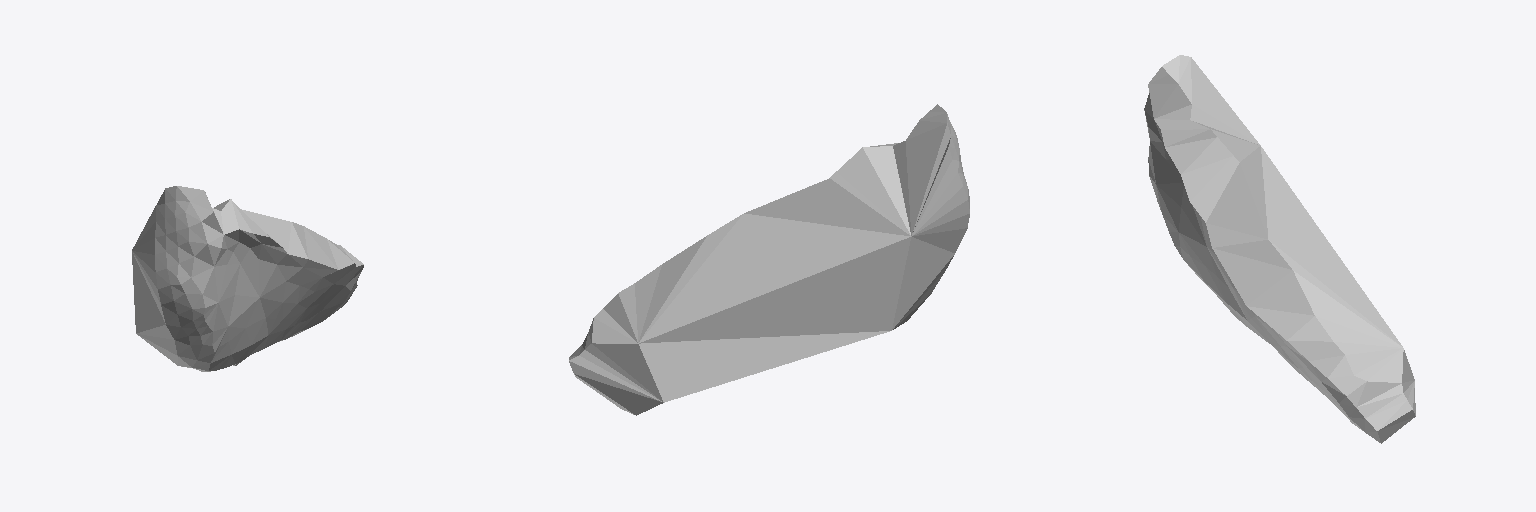
File: L_alveolar_collision_proxy.obj
3 views of the same model, side by side, from view 1: azimuth 30°, elevation 25°; view 2: azimuth 150°, elevation 25°; view 3: azimuth 270°, elevation 25° (orthographic).
Visible parts, largest first — view 1: objMat.002; view 2: objMat.002; view 3: objMat.002.
Part boxes in pixels (x1,y1,x2,y2): objMat.002: (132, 186, 363, 371); objMat.002: (569, 104, 969, 415); objMat.002: (1144, 55, 1415, 443).
Size of the model in its own units: 0.6041 by 0.5312 by 0.4727.